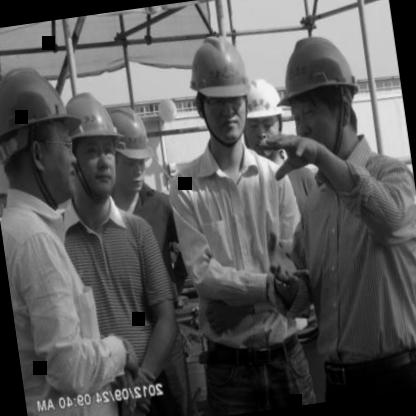helmet: (274, 23, 368, 169), (0, 60, 76, 212), (178, 30, 258, 152), (53, 87, 122, 207), (100, 102, 158, 196), (240, 72, 287, 158)
